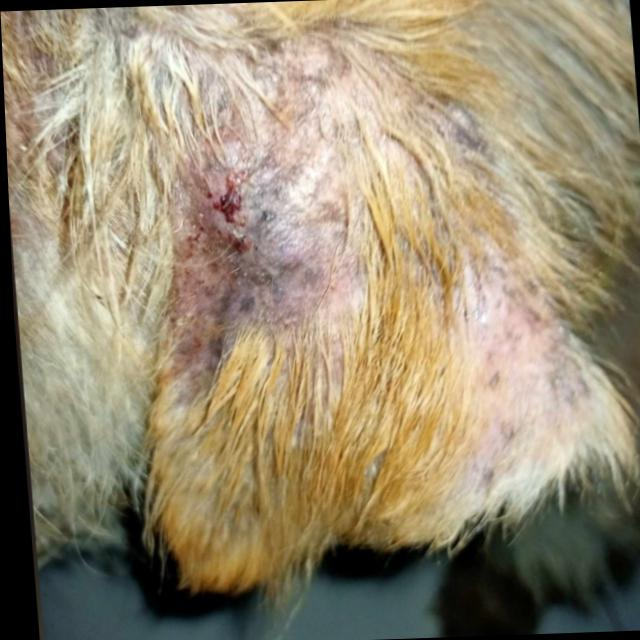demodicosis: (132, 88, 409, 346), (440, 299, 586, 478)
